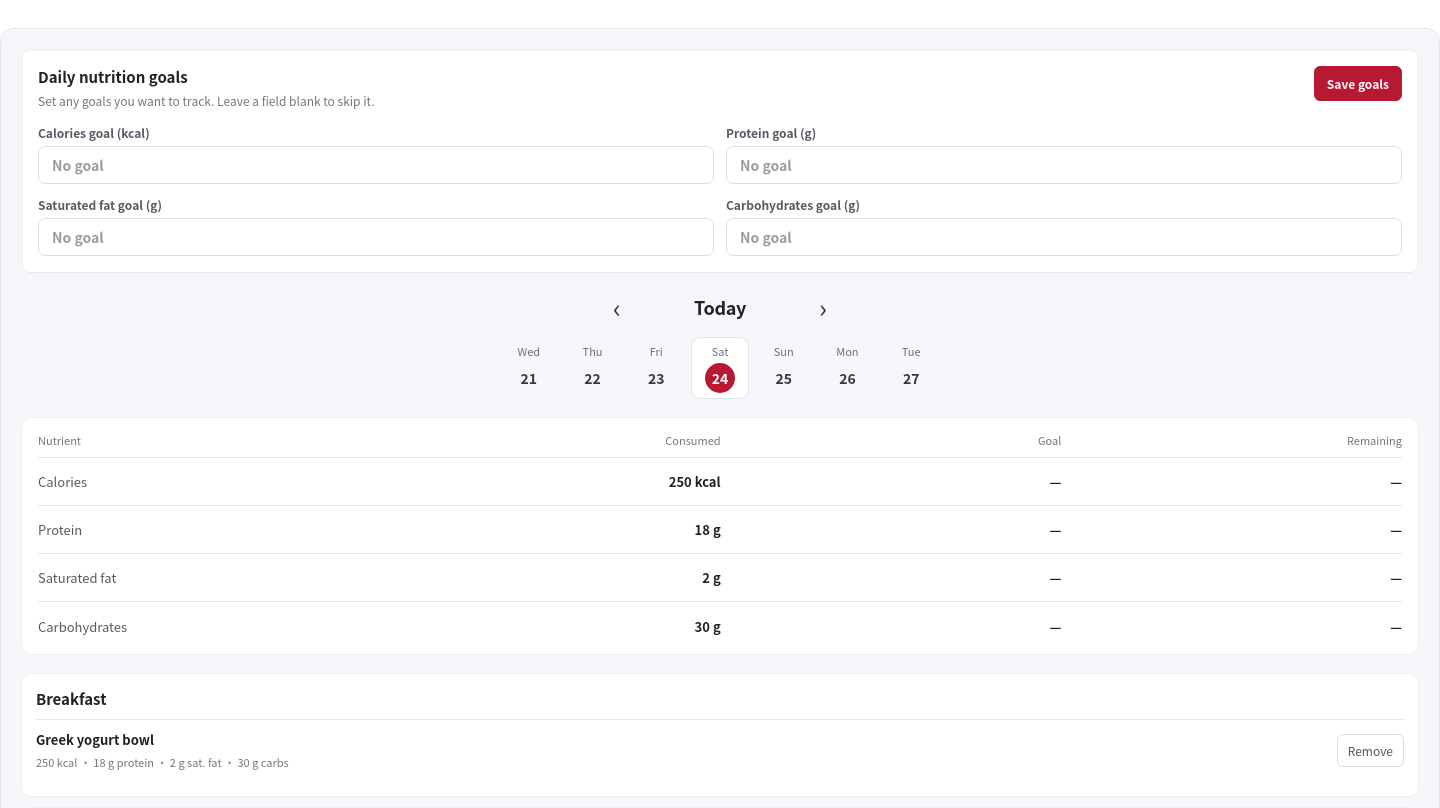
it: NutritionTracker › keeps daily entries separate and allows removal
The width and height of the screenshot is (1440, 808).
What coordinates should you click on to do the following:
click the button named "Previous day"
I would click on:
 (617, 307)
Its box is [601,291,633,323].
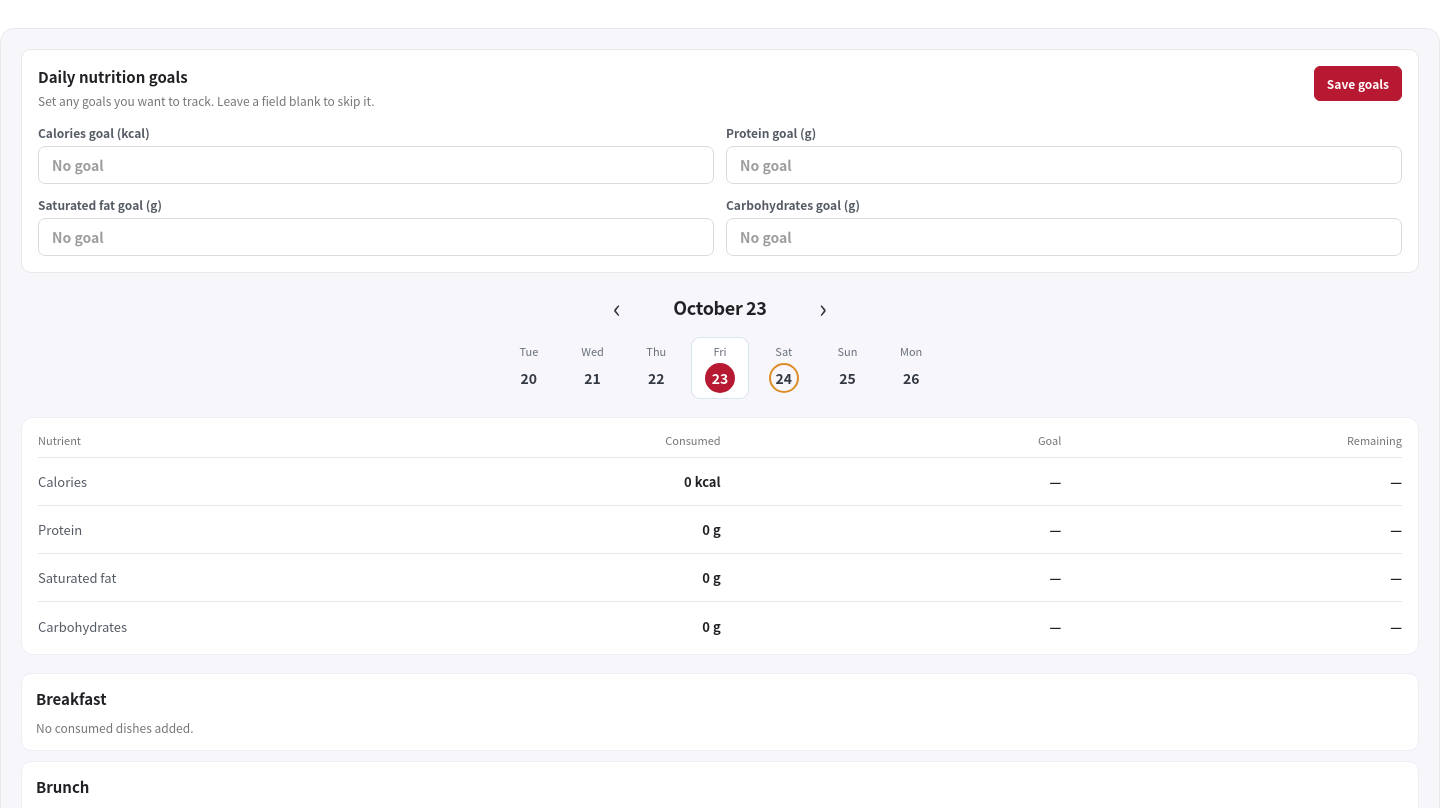
Expected: the text "Greek yogurt bowl" is gone
What coordinates should you click on to do the following:
click the button named "Next day"
I would click on:
 (823, 307)
Its box is [807,291,839,323].
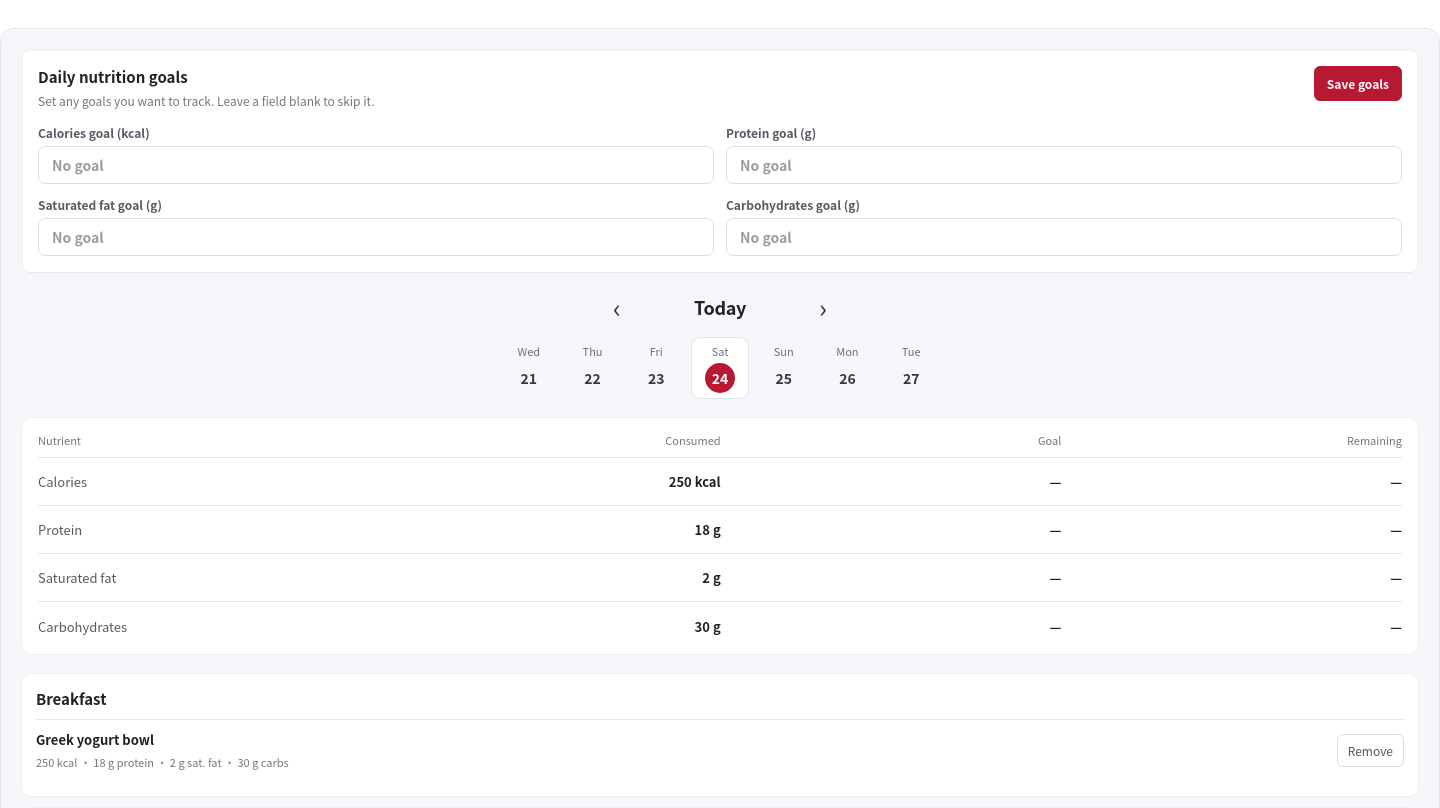
Expected: the text "Greek yogurt bowl" is shown, [36,730,154,749]
What coordinates should you click on to do the following:
click the button with aria-label "Remove Greek yogurt bowl"
I would click on:
 (1370, 751)
Its box is [1337,734,1404,768].
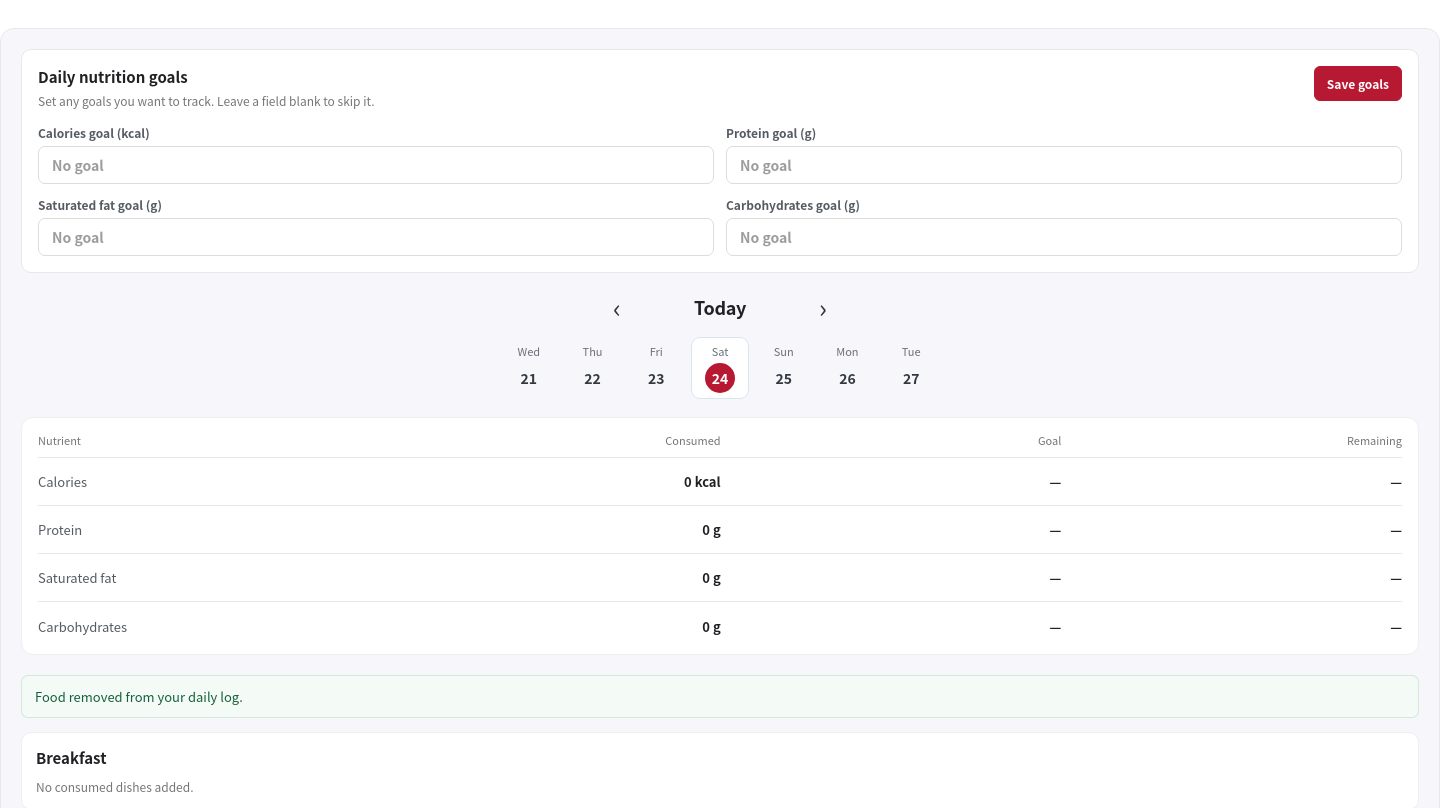
Expected: the element with class "nutrition-total-row" shows "0 kcal", [684,472,721,491]
Expected: the text "Greek yogurt bowl" is gone
